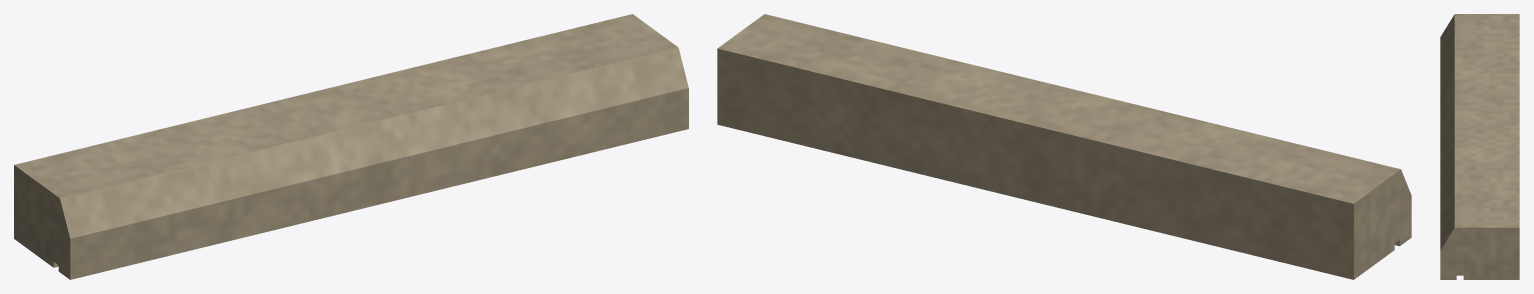
File: sandstone-sill.lod0.glb
The picture shows the model from 3 angles, left to right: view 1: azimuth 30°, elevation 25°; view 2: azimuth 150°, elevation 25°; view 3: azimuth 270°, elevation 25°; orthographic projection. The views are drawn at different scales.
Parts seen in each view (by area): view 1: sandstone-sill; view 2: sandstone-sill; view 3: sandstone-sill.
Part boxes in pixels (x1,y1,x2,y2): sandstone-sill: (14,14,688,279); sandstone-sill: (717,14,1411,279); sandstone-sill: (1440,14,1519,279).
Bounding box in the file's own units: 1.4 × 0.16 × 0.22.
Materials: 1 (1 with a texture image).
